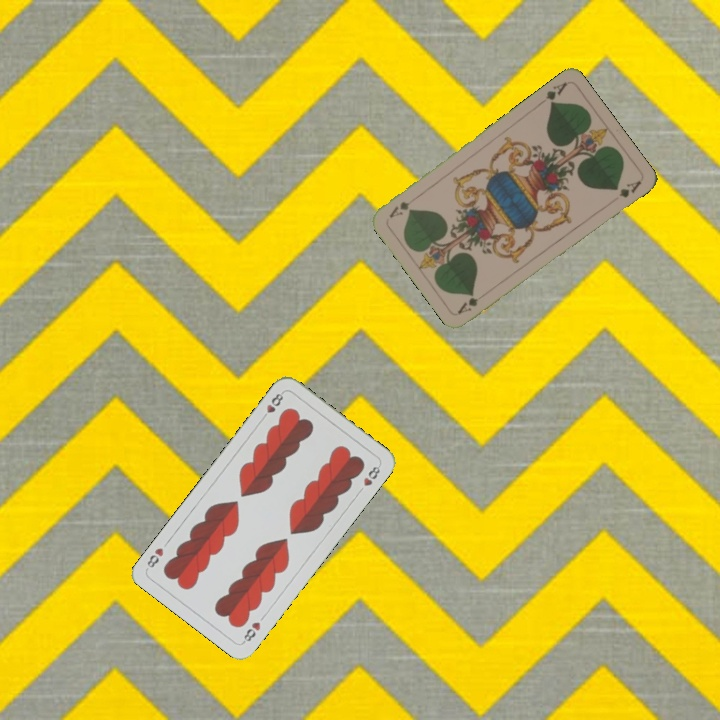GA: (542, 78, 570, 108), (454, 293, 481, 317)
H8: (258, 388, 287, 423), (238, 618, 263, 646)
